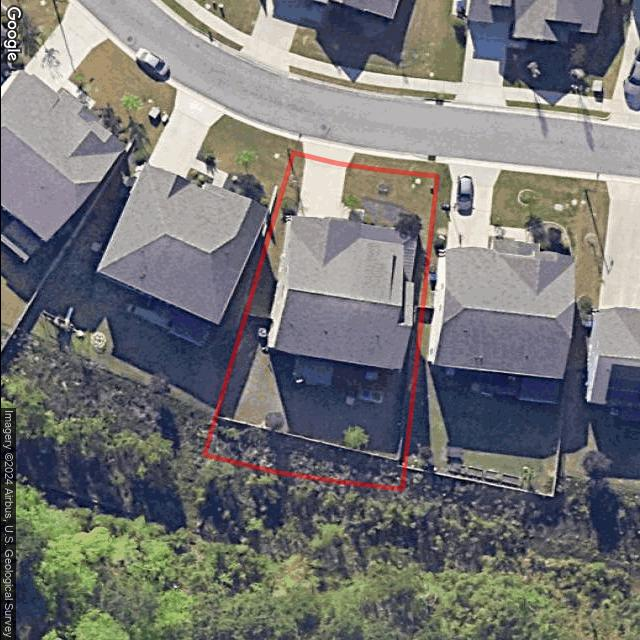Driveway: (293, 155, 347, 220)
Extra-Driveway: (301, 141, 355, 167)
Extra-Lawn: (347, 152, 438, 177), (292, 141, 303, 156)
House: (272, 216, 418, 371)
Lawn: (204, 152, 438, 489)
Other: (361, 197, 425, 238), (292, 355, 333, 388), (354, 388, 382, 404)
Sidewalk: (203, 416, 407, 489), (338, 201, 365, 225)
